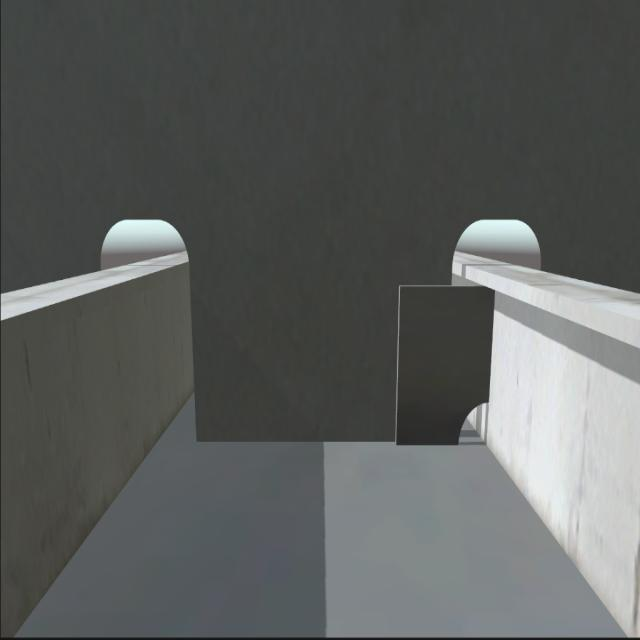fillet_hole: (459, 394, 496, 446)
fillet_yong_jeop_jang: (194, 432, 458, 452)
longi_yong_jeop_jang: (485, 276, 498, 406)
plate_CP01: (397, 284, 492, 450)
